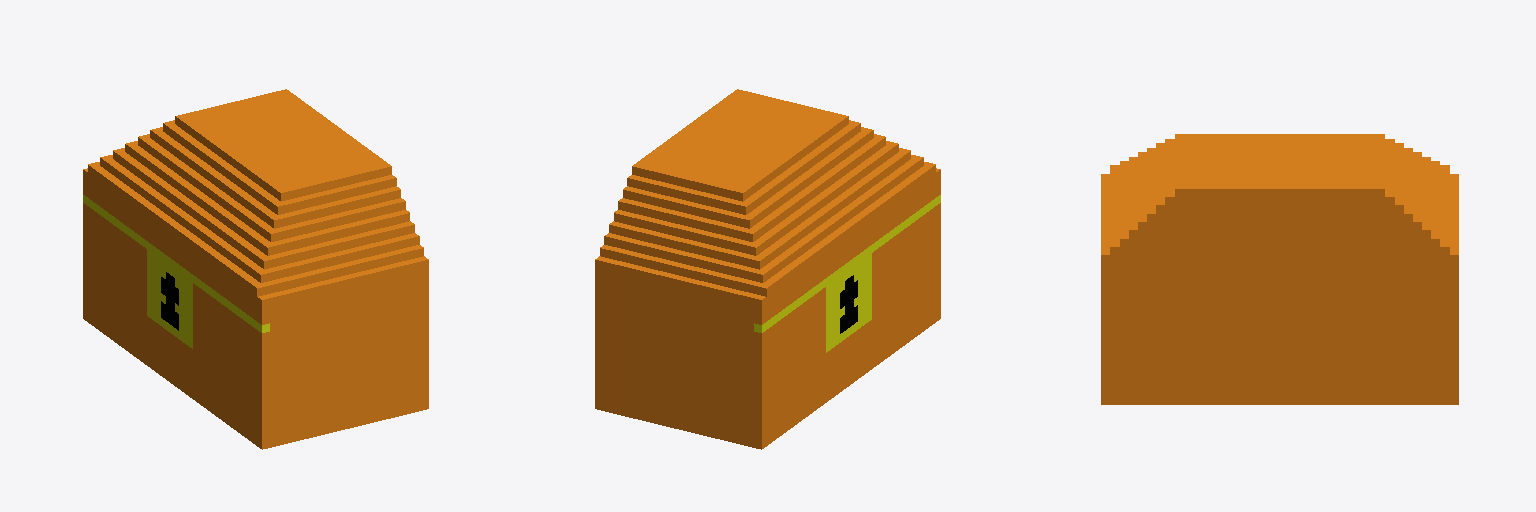
The picture shows the model from 3 angles: view 1: azimuth 30°, elevation 25°; view 2: azimuth 150°, elevation 25°; view 3: azimuth 270°, elevation 25°; orthographic projection.
Size of the model in its own units: 21 by 26 by 39.
1 materials, 1 textured.